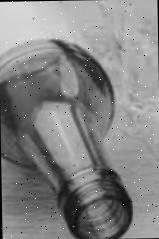glass: (0, 0, 133, 239)
